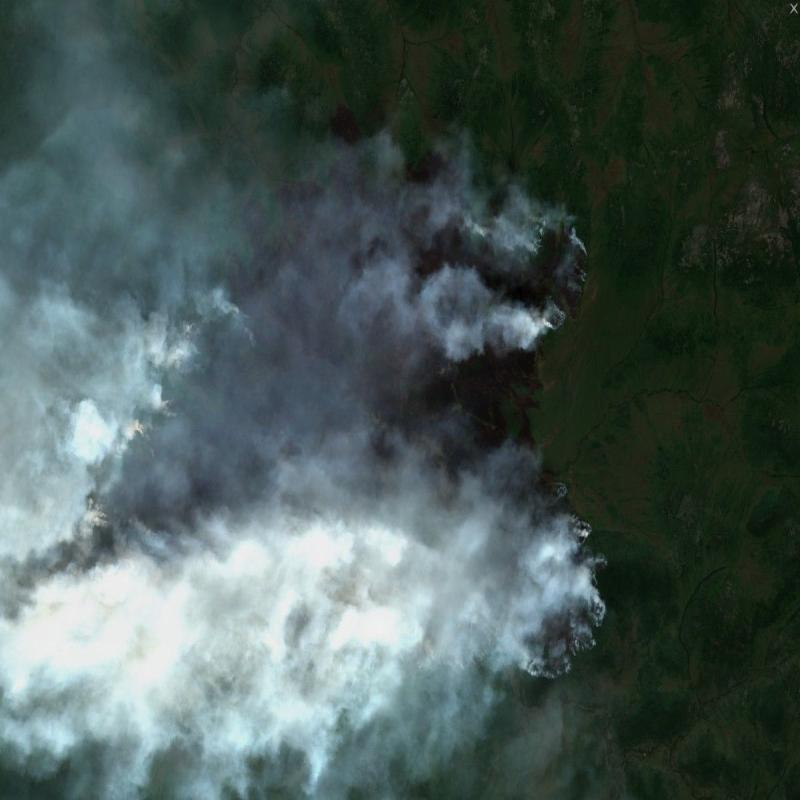fire: (87, 207, 613, 689)
